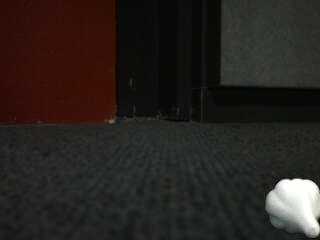Garlic: (264, 178, 320, 238)
